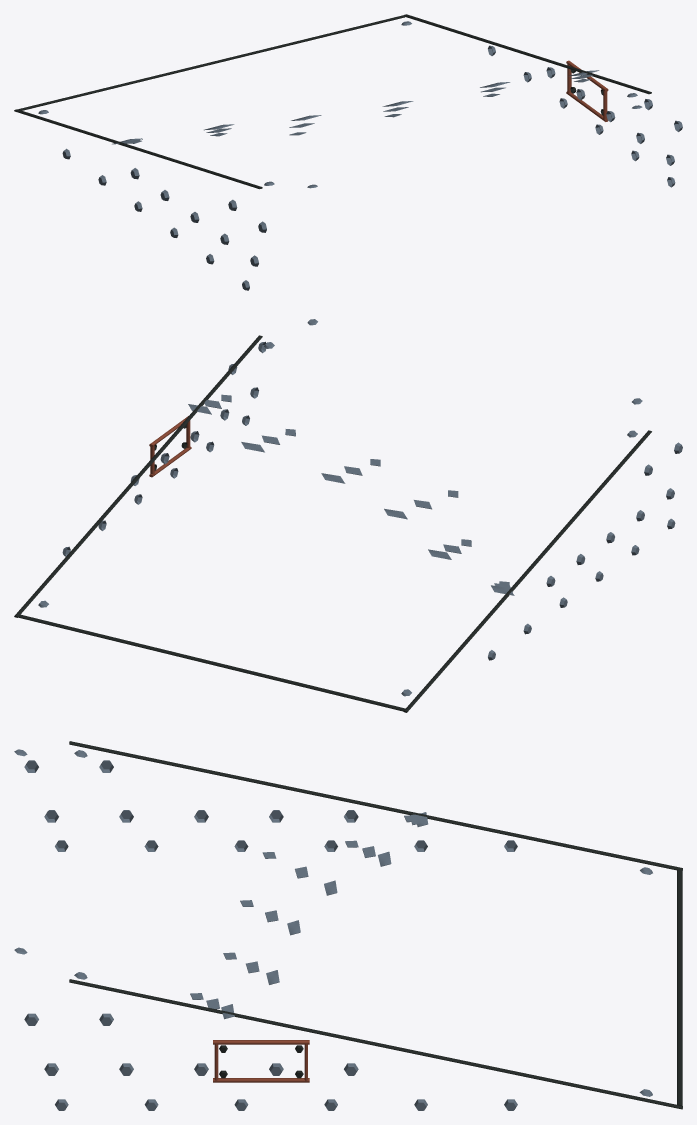
The model's file is kicker_wedge_detail1.glb.
The picture shows the model from 3 angles, top to bottom: view 1: azimuth 30°, elevation 25°; view 2: azimuth 150°, elevation 25°; view 3: azimuth 270°, elevation 25°; orthographic projection. The views are drawn at different scales.
Visible parts, largest first — view 1: Detail1; view 2: Detail1; view 3: Detail1.
Boxes of the visible parts, x1=… form: Detail1: x1=14, y1=14, x2=682, y2=290; Detail1: x1=14, y1=319, x2=682, y2=712; Detail1: x1=14, y1=741, x2=682, y2=1110.
Size of the model in its own units: 6.22 by 1.55 by 6.7.
